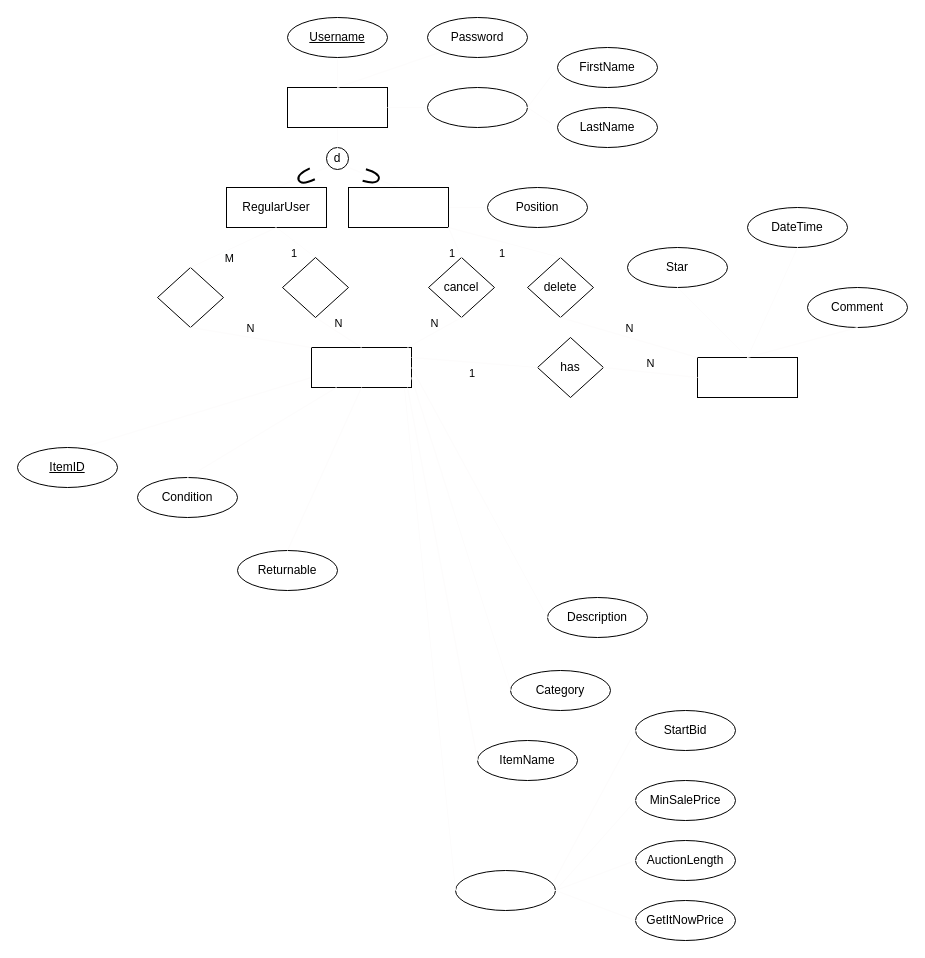
Image size: 925x958. Some labels were removed from this diagram. The shapes that lost their labels are listed below. From the top down, each one's box as (x1, y1, x2, y2) in pixels, then its label:
(286, 86, 388, 128): User
(426, 86, 528, 128): Name
(348, 186, 448, 228): AdminUser
(156, 266, 224, 328): bid
(282, 256, 348, 318): list
(310, 346, 412, 388): Item
(696, 356, 798, 398): Rating
(454, 870, 556, 910): PriceInfo
